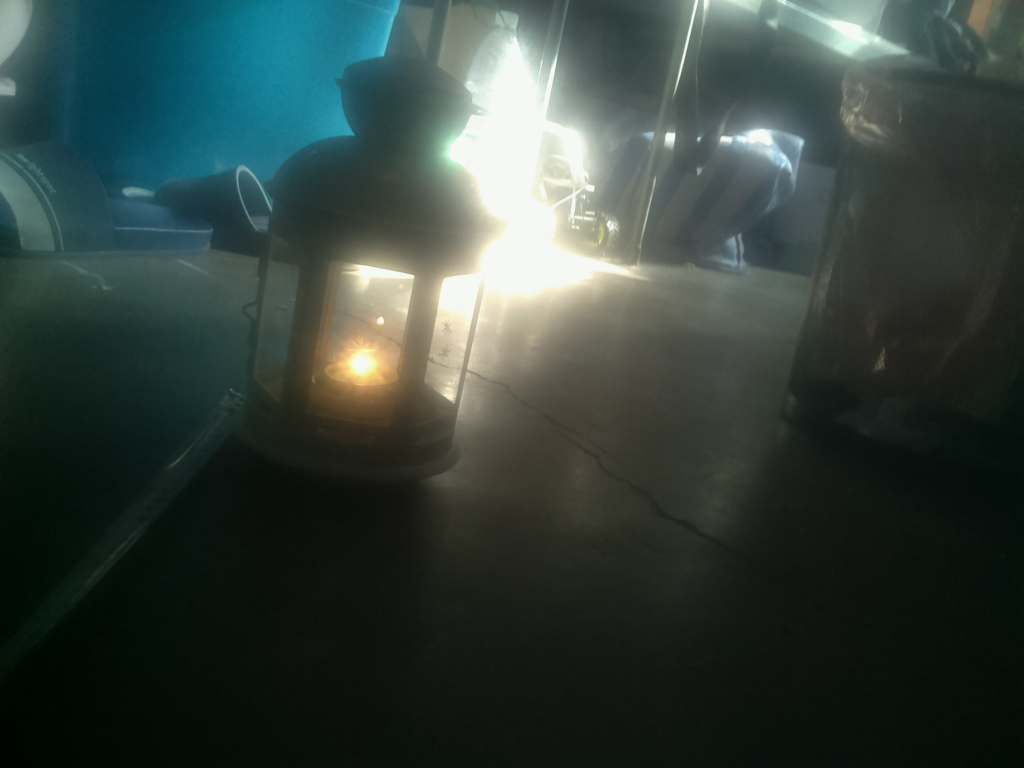fire: (323, 312, 408, 399)
